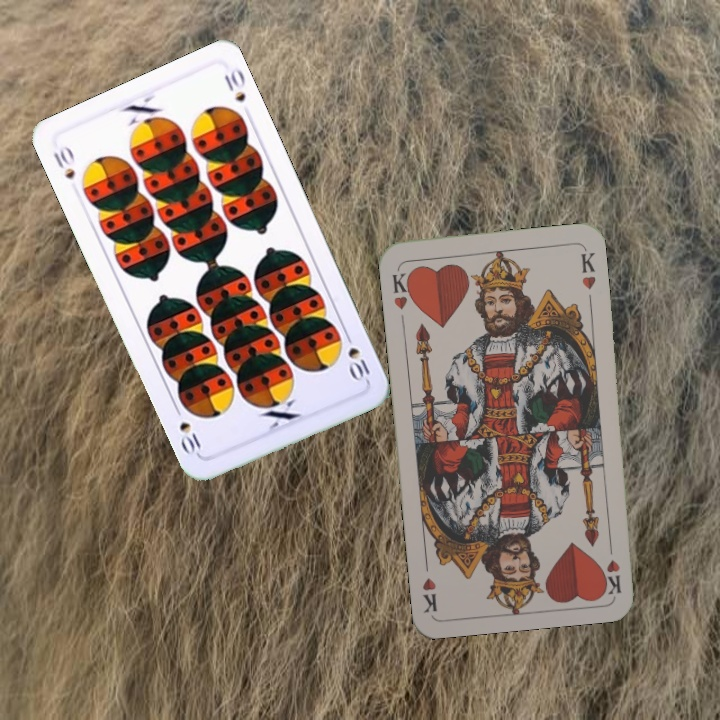HK: (388, 265, 416, 312), (602, 536, 623, 596)
S10: (340, 327, 374, 384), (49, 141, 78, 182)
